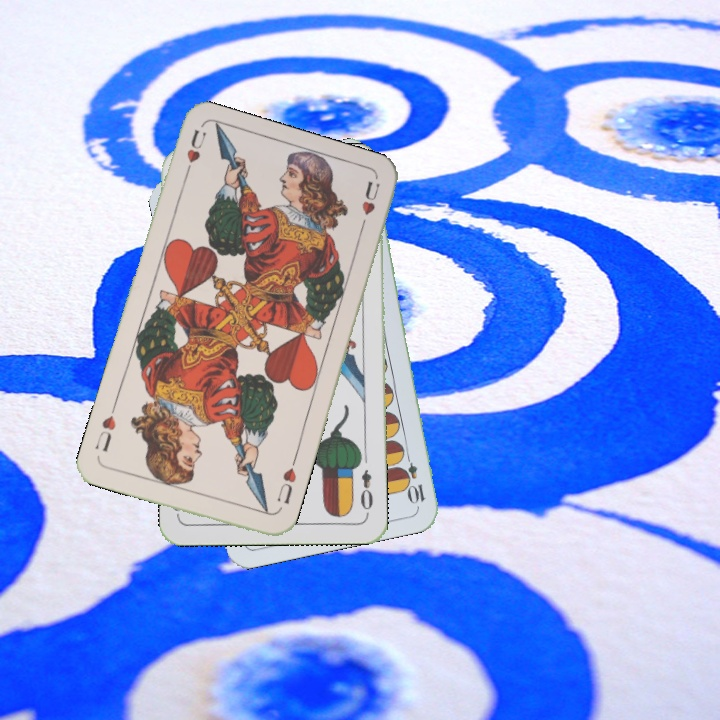E10: (399, 447, 428, 507)
EO: (357, 465, 376, 518)
HU: (180, 125, 209, 183), (273, 456, 299, 507)
